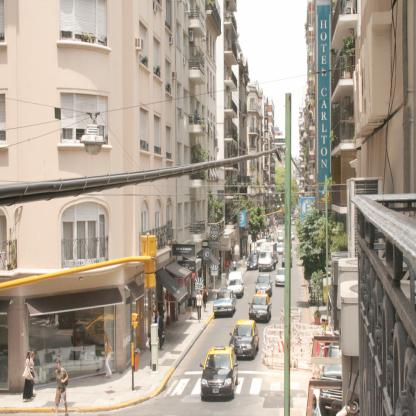Car: (200, 230, 344, 412)
